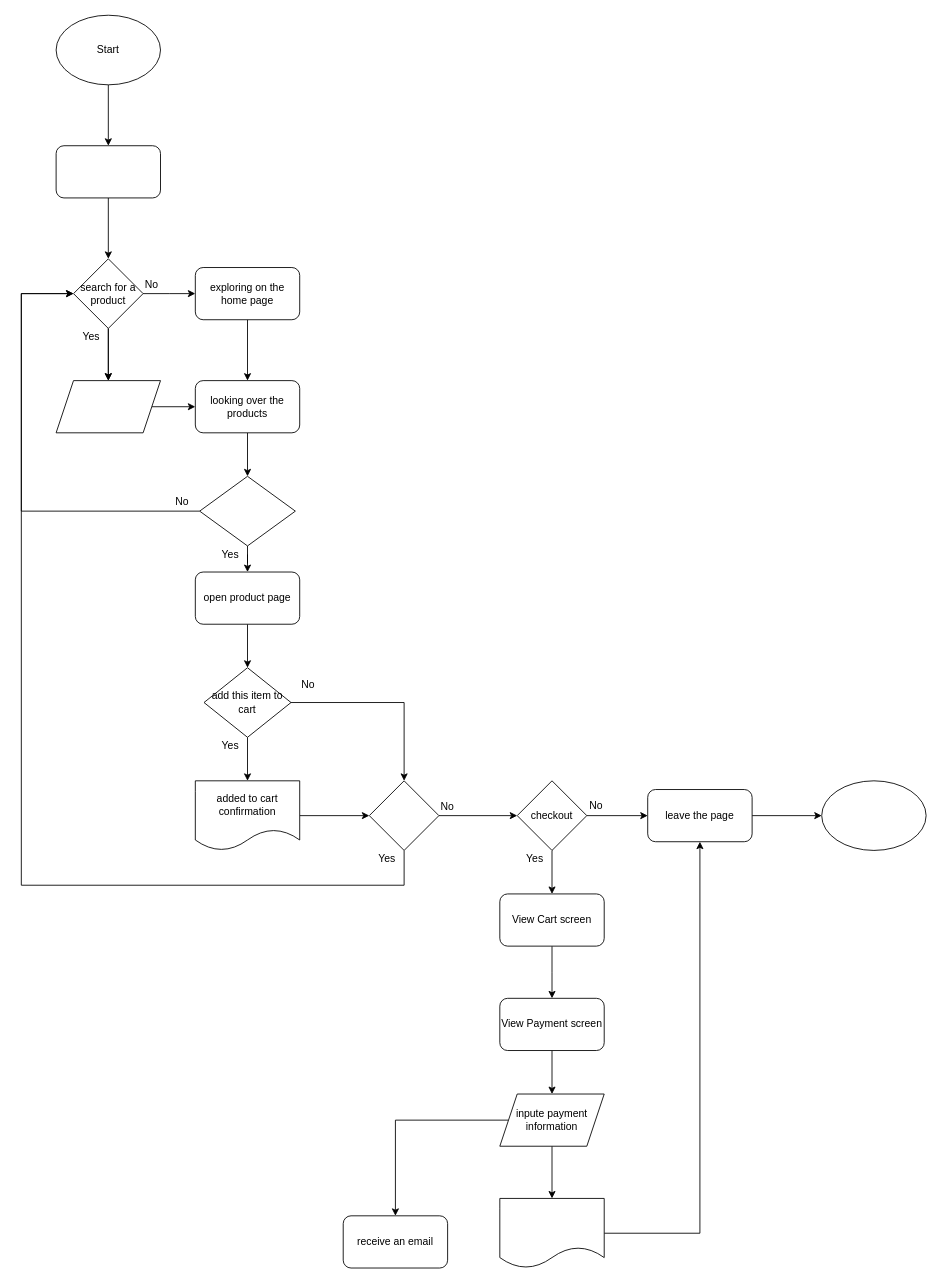
This 941x1283 diagram has some shape labels left out. Each missing label, with the centre of its shape:
continue shopping: the point at 403,815
end: the point at 873,815
payment confirmation screen: the point at 551,1233
user enters the website: the point at 108,171
user inputs their search: the point at 108,406
view a specific product: the point at 247,510
